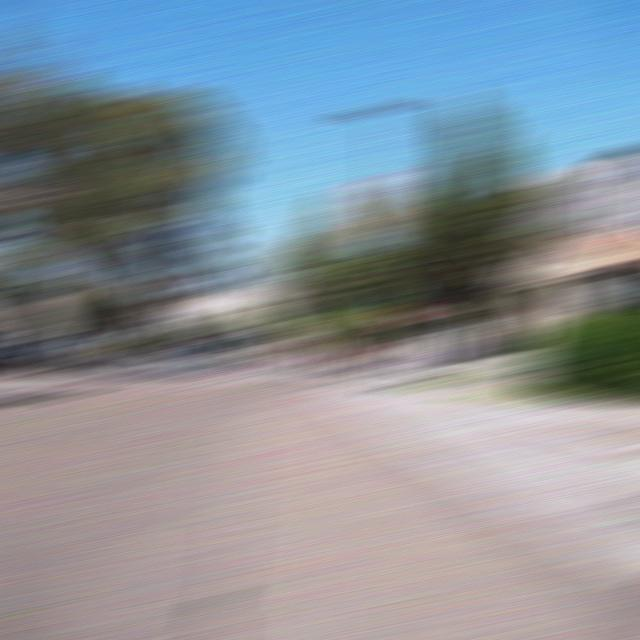stop_sign: (382, 302, 424, 323)
